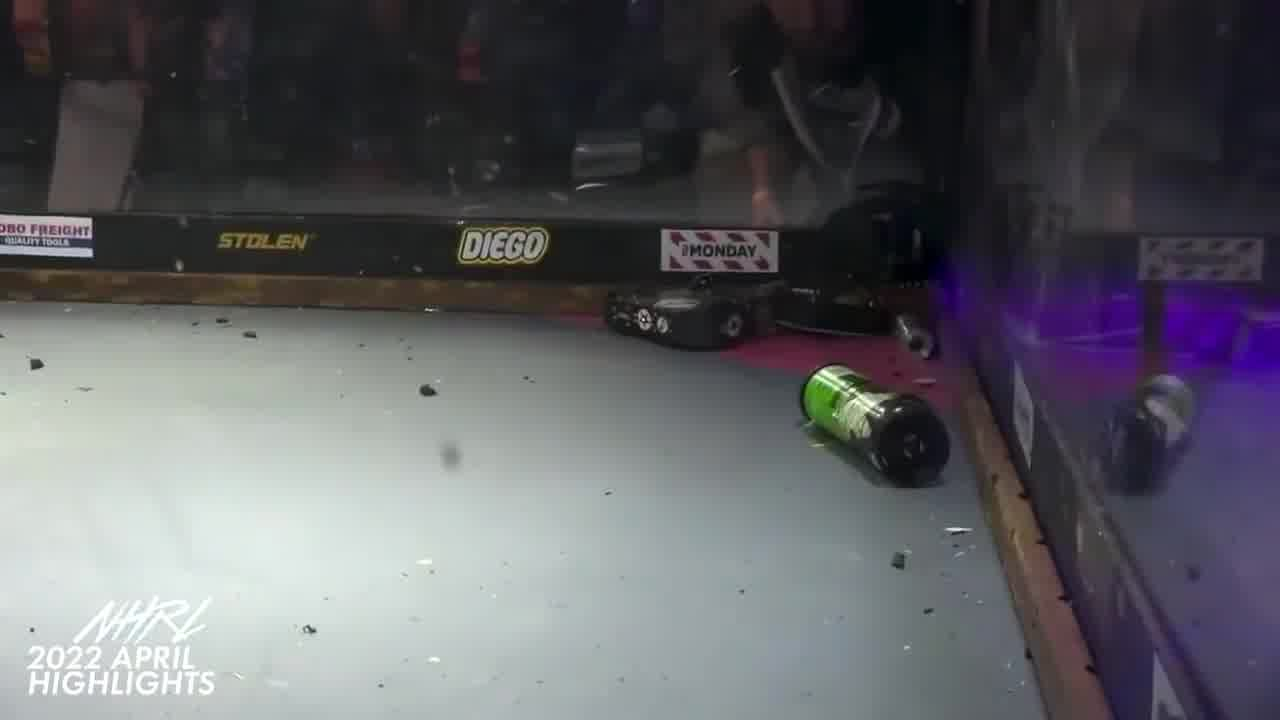combatbot: (610, 272, 786, 353), (1102, 369, 1200, 495), (731, 265, 888, 336)
debris: (797, 365, 954, 490), (894, 314, 933, 360), (891, 549, 912, 571), (416, 381, 441, 399), (28, 356, 46, 372)
